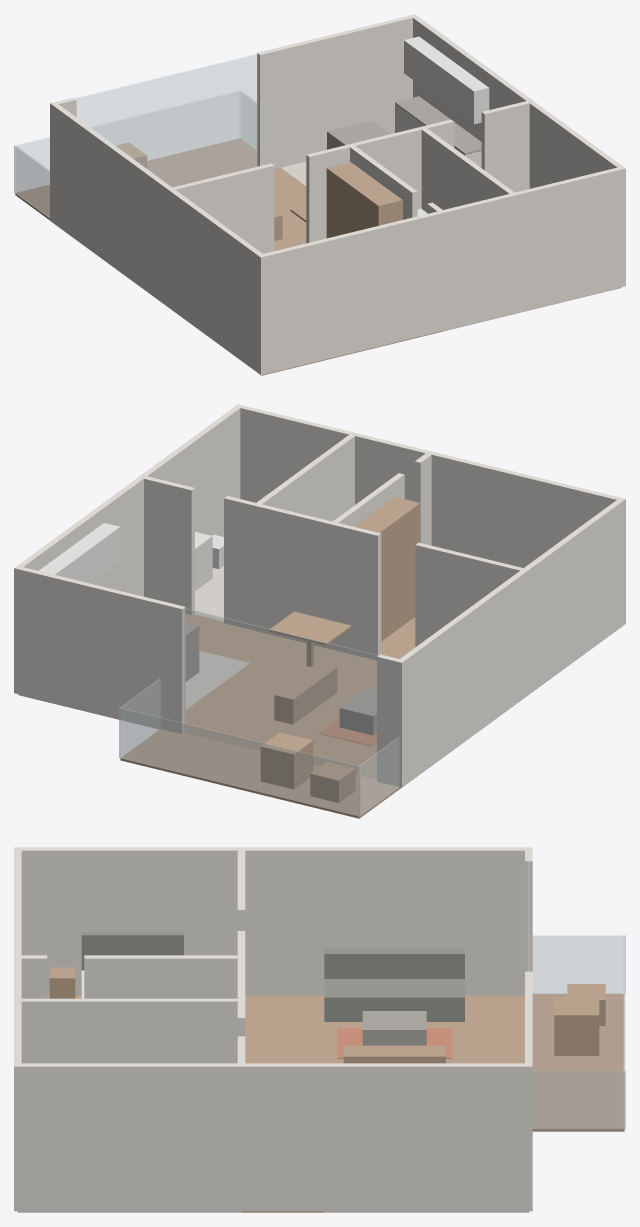
Rendered from tipo-a.glb.
3 views of the same model, one above another, from view 1: azimuth 30°, elevation 25°; view 2: azimuth 150°, elevation 25°; view 3: azimuth 270°, elevation 25° (orthographic). The views are drawn at different scales.
Parts seen in each view (by area): view 1: muros-33, muros-34, muros-32, vidrios-44, muros-35, vidrios-45, muros-36, muros-43, ambiente:dormitorio-22, ambiente:terraza-6, ambiente:cocina-16, muros-40 (+11 smaller); view 2: muros-34, vidrios-44, muros-33, muros-32, ambiente:sala-0, vidrios-45, muros-35, muros-38, ambiente:terraza-6, muros-37, muros-40, muros-36 (+21 smaller); view 3: muros-35, muros-34, muros-43, ambiente:terraza-6, ambiente:sala-0, muros-41, vidrios-47, ambiente:sala-7, vidrios-46, ambiente:sala-8, muros-33, ambiente:terraza-30 (+13 smaller).
Boxes of the visible parts, box(x1,y1,x2,y2) form: muros-33: box(257, 167, 625, 374); muros-34: box(50, 102, 266, 374); muros-32: box(257, 14, 417, 168); vidrios-44: box(75, 54, 258, 186); muros-35: box(411, 15, 625, 286); vidrios-45: box(14, 91, 238, 192); muros-36: box(167, 163, 274, 306); muros-43: box(421, 128, 517, 313); ambiente:dormitorio-22: box(326, 162, 402, 238); ambiente:terraza-6: box(15, 138, 256, 220); ambiente:cocina-16: box(404, 36, 489, 124); muros-40: box(481, 100, 534, 192); muros-34: box(396, 499, 625, 786); vidrios-44: box(184, 608, 378, 779); muros-33: box(235, 404, 625, 624); muros-32: box(14, 566, 185, 733); ambiente:sala-0: box(184, 638, 401, 787); vidrios-45: box(119, 707, 360, 816); muros-35: box(14, 406, 240, 614); muros-38: box(252, 503, 332, 648); ambiente:terraza-6: box(120, 729, 400, 818); muros-37: box(329, 523, 381, 660); muros-40: box(138, 475, 194, 615); muros-36: box(415, 542, 528, 696); muros-35: box(14, 1063, 532, 1211); muros-34: box(14, 847, 532, 995); muros-43: box(14, 998, 237, 1063); ambiente:terraza-6: box(532, 993, 624, 1131); ambiente:sala-0: box(245, 995, 524, 1063); muros-41: box(84, 955, 237, 998); vidrios-47: box(533, 1070, 625, 1128); ambiente:sala-7: box(324, 979, 464, 1021); vidrios-46: box(533, 935, 625, 993); ambiente:sala-8: box(324, 948, 464, 978); muros-33: box(14, 847, 21, 1211); ambiente:terraza-30: box(554, 996, 599, 1055).
Size of the model in its own units: 8.12 by 2.55 by 9.58.
